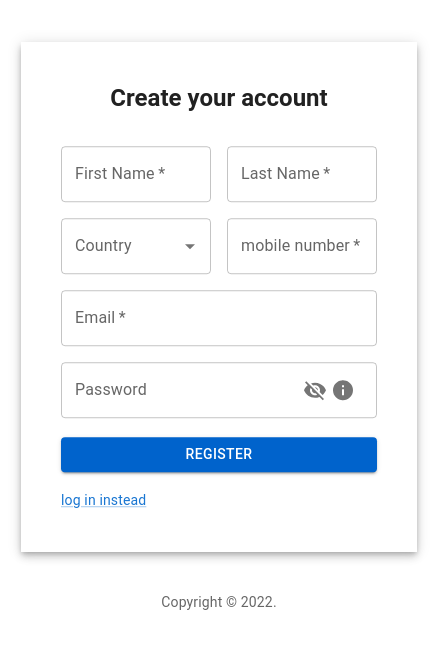
Test: Testing account registration › Displays flash errors when unauthorised
This screenshot has width=439, height=650.
Click the button "Register".
click(219, 455)  # box [61,437,377,472]
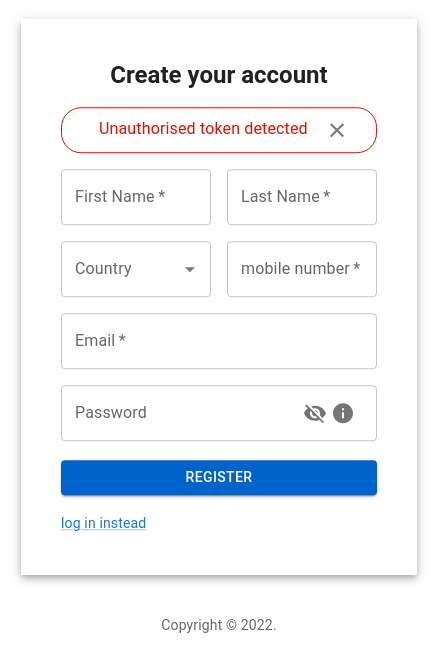
Expected: the text "Unauthorised token detected" is shown, [67,113,308,141]
